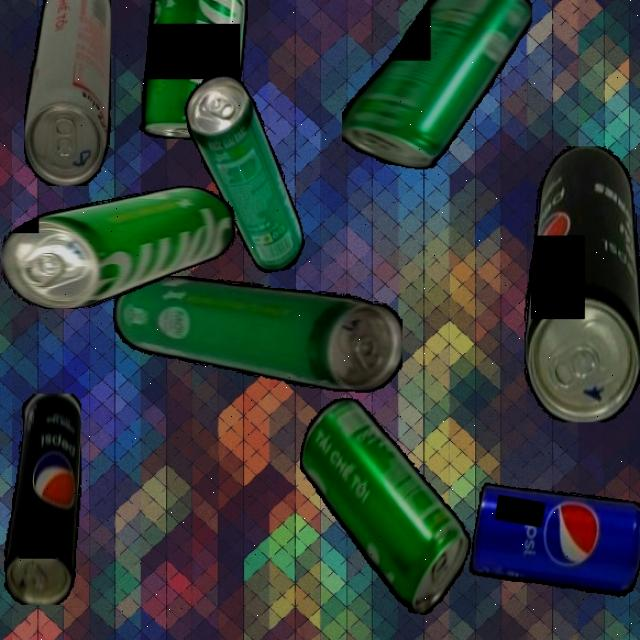debris: (277, 392, 492, 620), (112, 276, 403, 393), (340, 0, 532, 169), (523, 145, 640, 422), (1, 185, 237, 309), (180, 67, 308, 282), (466, 476, 640, 603), (108, 0, 250, 140), (4, 392, 82, 604), (23, 0, 111, 186)
